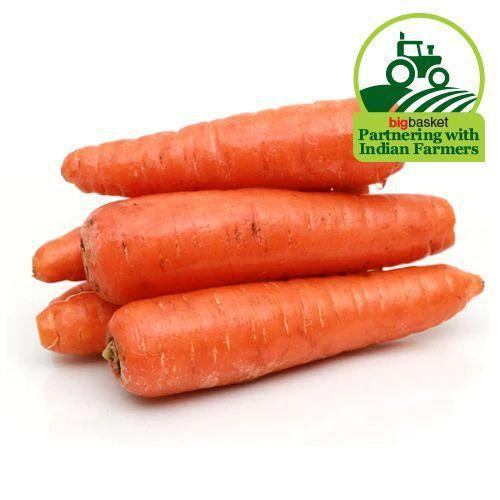carrot: (42, 128, 443, 385), (0, 231, 498, 401), (49, 190, 486, 284)
